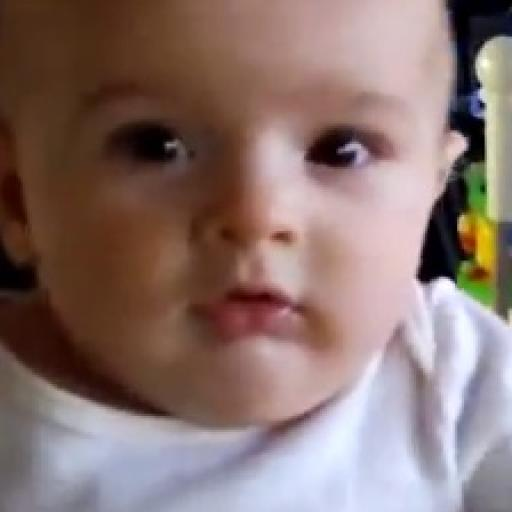Autism: (52, 52, 512, 445)
